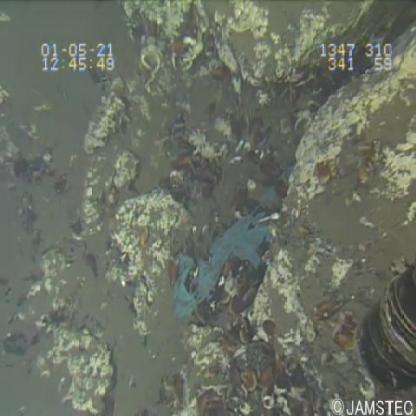Rov: (355, 247, 415, 406)
Rác: (160, 167, 282, 330)
